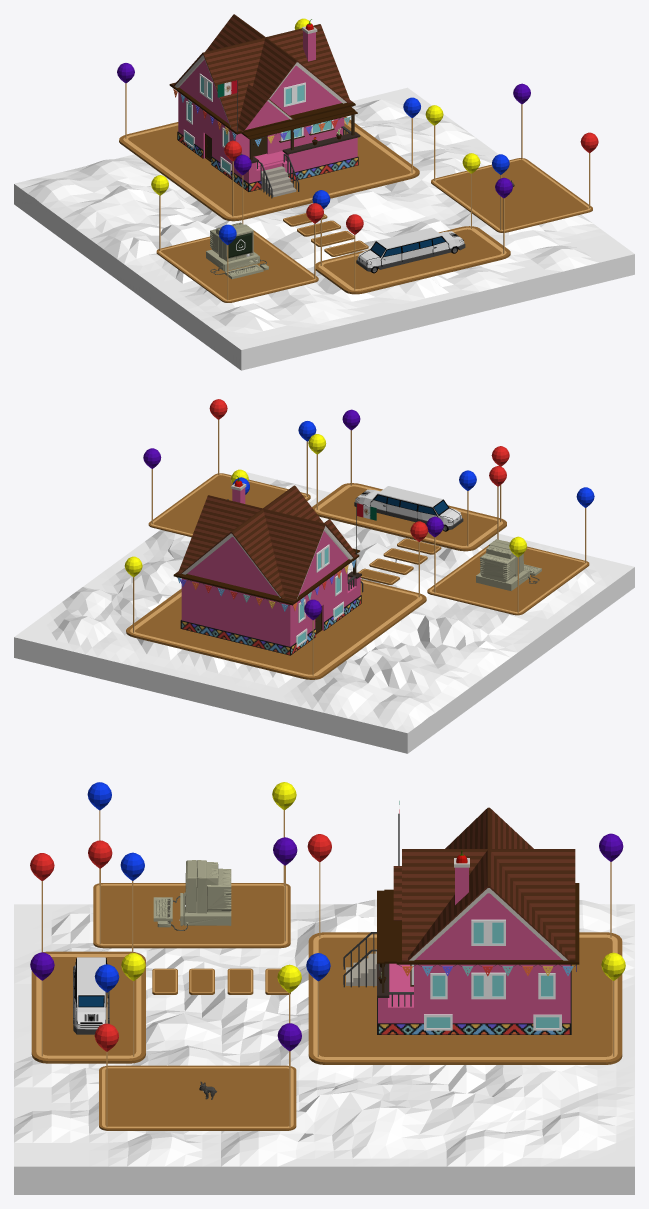
The picture shows the model from 3 angles, top to bottom: view 1: azimuth 30°, elevation 25°; view 2: azimuth 150°, elevation 25°; view 3: azimuth 270°, elevation 25°; orthographic projection. The views are drawn at different scales.
Visible parts, largest first — view 1: Cube.013, Cube.1005, VEHICLES_LIMOUSINE, OBJRANDOM_RETRO_PC; view 2: Cube.013, Cube.1005, VEHICLES_LIMOUSINE, OBJRANDOM_RETRO_PC; view 3: Cube.013, Cube.1005, OBJRANDOM_RETRO_PC, VEHICLES_LIMOUSINE.
Part boxes in pixels (bbox=[...]): Cube.013: bbox=[14, 18, 634, 370]; Cube.1005: bbox=[169, 14, 360, 198]; VEHICLES_LIMOUSINE: bbox=[356, 227, 465, 273]; OBJRANDOM_RETRO_PC: bbox=[206, 222, 268, 279]; Cube.013: bbox=[14, 399, 634, 753]; Cube.1005: bbox=[173, 476, 376, 655]; VEHICLES_LIMOUSINE: bbox=[354, 486, 463, 531]; OBJRANDOM_RETRO_PC: bbox=[476, 539, 541, 590]; Cube.013: bbox=[14, 782, 634, 1194]; Cube.1005: bbox=[343, 801, 579, 1034]; OBJRANDOM_RETRO_PC: bbox=[153, 860, 231, 930]; VEHICLES_LIMOUSINE: bbox=[73, 957, 109, 1034].
Bounding box in the file's own units: 4000 × 1724 × 4000.
Materials: 70 (4 with a texture image).
